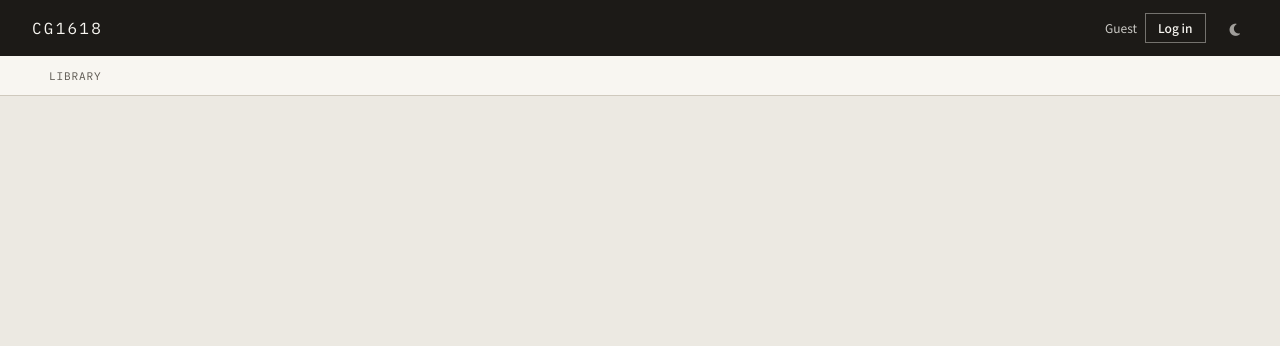
Nav - what a guest is shown › keeps Groups and the media types in a guest's Library, not Entities
The width and height of the screenshot is (1280, 346).
Click the button "Library".
click(75, 76)  # box [32, 56, 118, 96]
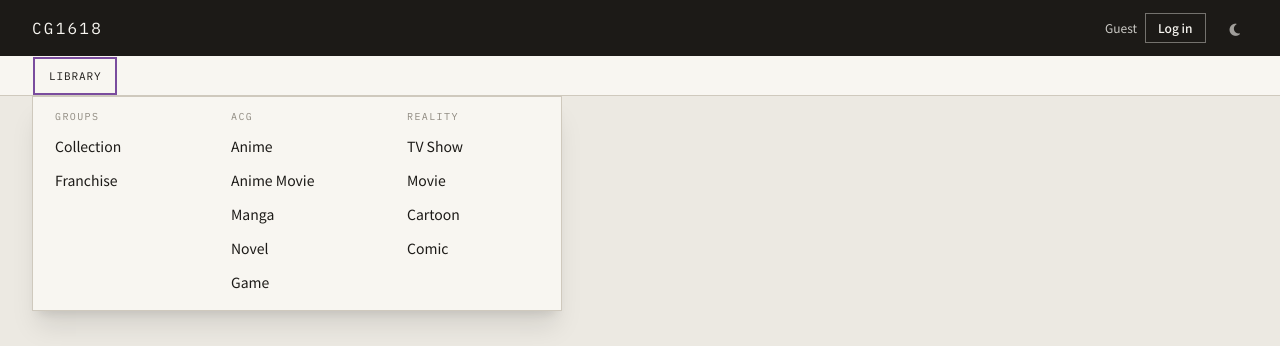
Check: the link "Collection" is shown, box [55, 136, 121, 156]
Check: the link "Anime" is shown, box [231, 136, 273, 156]
